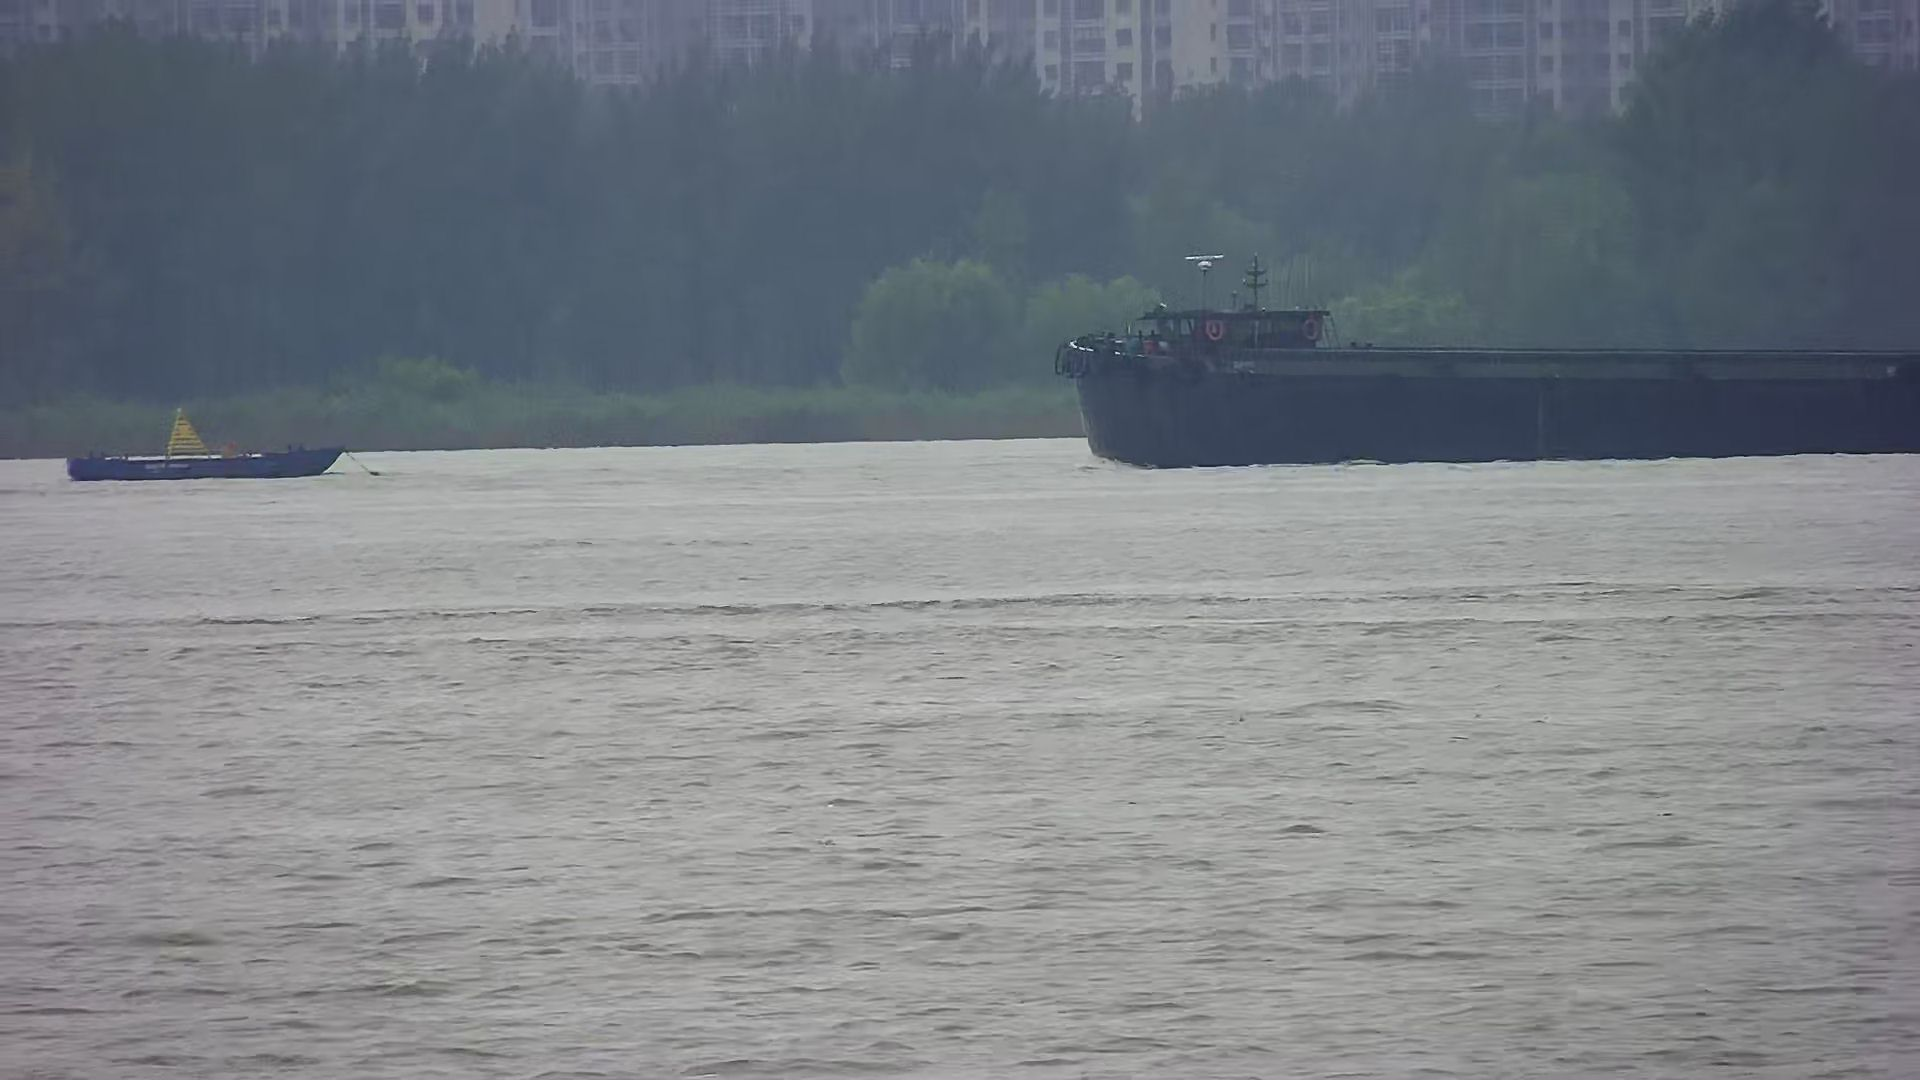boat: (69, 407, 348, 480)
ship: (1059, 248, 1920, 471)
